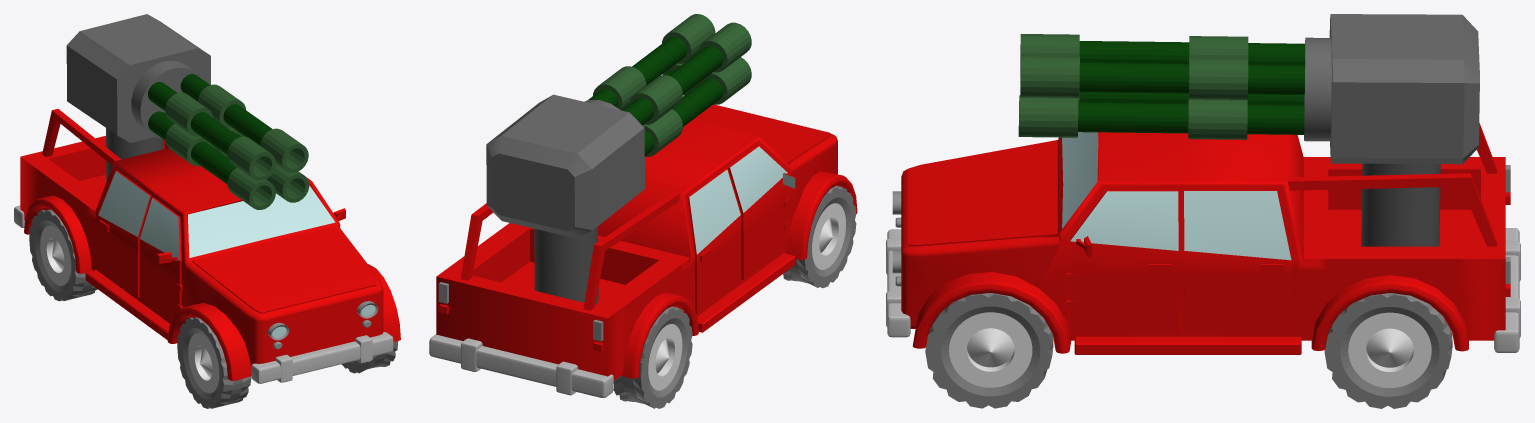
The model's file is CAR_START.fbx.
The picture shows the model from 3 angles, left to right: view 1: azimuth 30°, elevation 25°; view 2: azimuth 150°, elevation 25°; view 3: azimuth 270°, elevation 25°; orthographic projection. The views are drawn at different scales.
Parts seen in each view (by area): view 1: car_body, BARRELS_MACHINE, RR1, RR, m1, m2, m3, circle_holder, c1, c2, c3, m4 (+2 smaller); view 2: car_body, BARRELS_MACHINE, RR, RR1, TOP_GUN, m1, m2, m3, c1, c2, c3; view 3: car_body, BARRELS_MACHINE, RR3, RR2, TOP_GUN, c4, c2, m2, m4, c1, circle_holder, m1 (+1 smaller).
Part boxes in pixels (<box>): car_body: <box>14,109,400,383</box>; BARRELS_MACHINE: <box>66,14,210,142</box>; RR1: <box>177,317,251,408</box>; RR: <box>29,209,97,301</box>; m1: <box>165,92,275,180</box>; m2: <box>197,84,308,172</box>; m3: <box>165,124,275,209</box>; circle_holder: <box>131,61,202,138</box>; c1: <box>148,82,239,154</box>; c2: <box>180,74,272,145</box>; c3: <box>148,111,236,184</box>; m4: <box>213,128,309,202</box>; car_body: <box>429,104,857,397</box>; BARRELS_MACHINE: <box>486,94,644,238</box>; RR: <box>613,306,692,408</box>; RR1: <box>783,186,856,287</box>; TOP_GUN: <box>534,226,598,304</box>; m1: <box>629,22,751,124</box>; m2: <box>593,14,715,110</box>; m3: <box>642,57,751,156</box>; c1: <box>622,45,723,125</box>; c2: <box>588,37,686,107</box>; c3: <box>644,78,723,155</box>; car_body: <box>886,123,1520,354</box>; BARRELS_MACHINE: <box>1329,14,1479,164</box>; RR3: <box>1324,293,1452,408</box>; RR2: <box>925,293,1053,408</box>; TOP_GUN: <box>1361,163,1440,246</box>; c4: <box>1078,102,1304,134</box>; c2: <box>1079,62,1304,94</box>; m2: <box>1020,55,1248,99</box>; m4: <box>1018,95,1247,139</box>; c1: <box>1079,41,1304,65</box>; circle_holder: <box>1304,37,1331,141</box>; m1: <box>1020,34,1248,73</box>.
Bounding box in the file's own units: 11.54 × 13.81 × 25.01.
